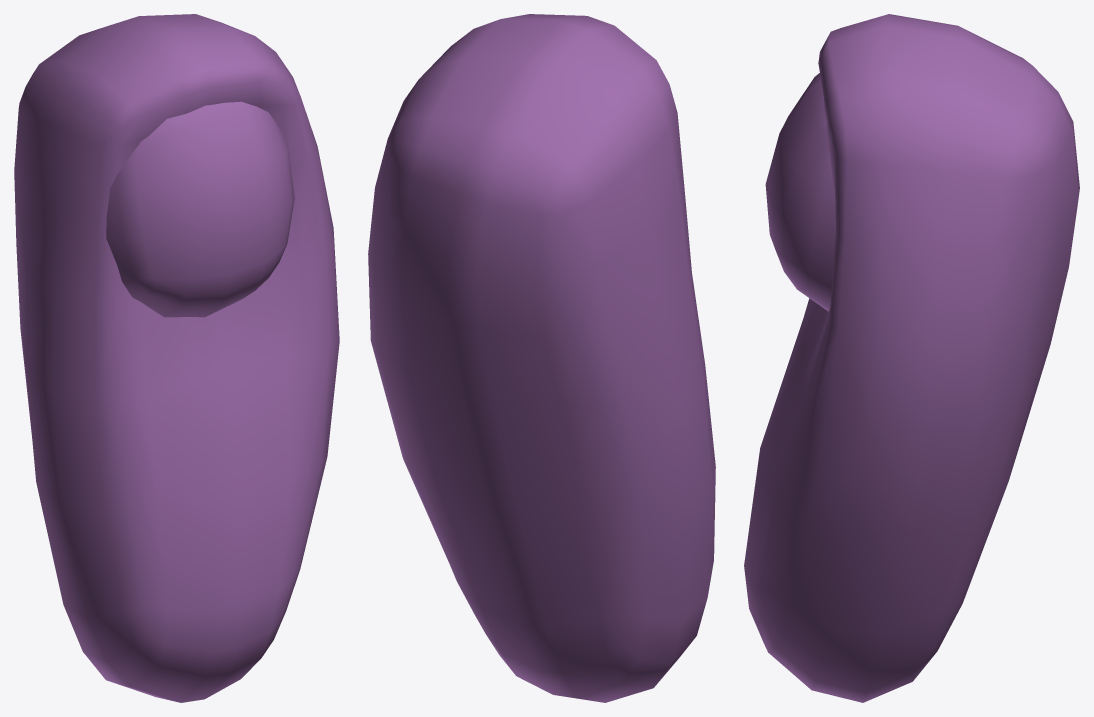
Rendered from baby_LP_UV.fbx.
3 views of the same model, side by side, from view 1: azimuth 30°, elevation 25°; view 2: azimuth 150°, elevation 25°; view 3: azimuth 270°, elevation 25° (orthographic). The views are drawn at different scales.
Visible parts, largest first — view 1: POLYSPHERE19; view 2: POLYSPHERE19; view 3: POLYSPHERE19.
Boxes of the visible parts, x1=… form: POLYSPHERE19: x1=14, y1=14, x2=339, y2=702; POLYSPHERE19: x1=368, y1=14, x2=715, y2=702; POLYSPHERE19: x1=744, y1=14, x2=1079, y2=702.
Bounding box in the file's own units: 1.82 × 3.96 × 1.79.
